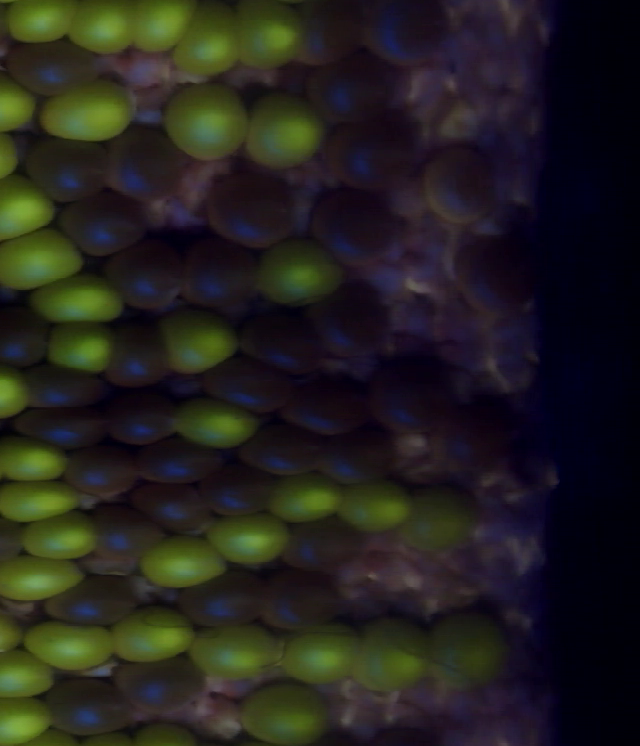fluorescent: (416, 605, 514, 695), (158, 79, 256, 168), (344, 610, 441, 694), (34, 73, 141, 149), (241, 86, 330, 177), (395, 476, 489, 559), (255, 236, 355, 309), (231, 678, 337, 746), (155, 296, 245, 373), (275, 616, 371, 687), (0, 223, 89, 297), (166, 1, 248, 80), (165, 391, 266, 453), (105, 601, 202, 665), (20, 615, 123, 675), (190, 617, 285, 682), (25, 268, 126, 329), (226, 1, 310, 74), (135, 530, 233, 591), (200, 506, 299, 566), (14, 504, 104, 566), (332, 473, 416, 537), (124, 1, 205, 62), (267, 467, 349, 527), (61, 1, 144, 59), (0, 552, 94, 603), (43, 317, 121, 378), (0, 428, 77, 488), (0, 169, 57, 248), (0, 475, 83, 528), (5, 1, 81, 51), (0, 57, 43, 139), (0, 645, 59, 703), (0, 691, 62, 746), (0, 356, 35, 424), (0, 599, 30, 664)
nonfluorescent: (319, 104, 430, 198), (201, 166, 302, 256), (306, 184, 399, 272), (274, 369, 382, 444), (172, 233, 268, 317), (302, 43, 395, 129), (448, 237, 539, 323), (97, 234, 190, 318), (50, 184, 155, 258), (100, 121, 189, 207), (418, 139, 500, 231), (308, 277, 397, 360), (18, 132, 117, 206), (199, 350, 304, 419), (249, 563, 348, 636), (2, 35, 109, 100), (37, 674, 139, 741), (359, 1, 455, 72), (366, 359, 445, 445), (236, 305, 325, 381), (174, 569, 279, 633), (40, 569, 145, 632), (428, 399, 522, 468), (111, 656, 215, 717), (6, 402, 121, 456), (276, 514, 374, 576), (287, 1, 373, 69), (99, 319, 176, 392), (201, 460, 284, 527), (83, 500, 169, 564), (129, 436, 231, 489), (235, 423, 325, 482), (132, 479, 220, 539), (19, 359, 115, 412), (61, 441, 143, 501), (314, 428, 397, 487), (101, 392, 181, 449), (0, 303, 56, 372), (0, 515, 32, 569)
